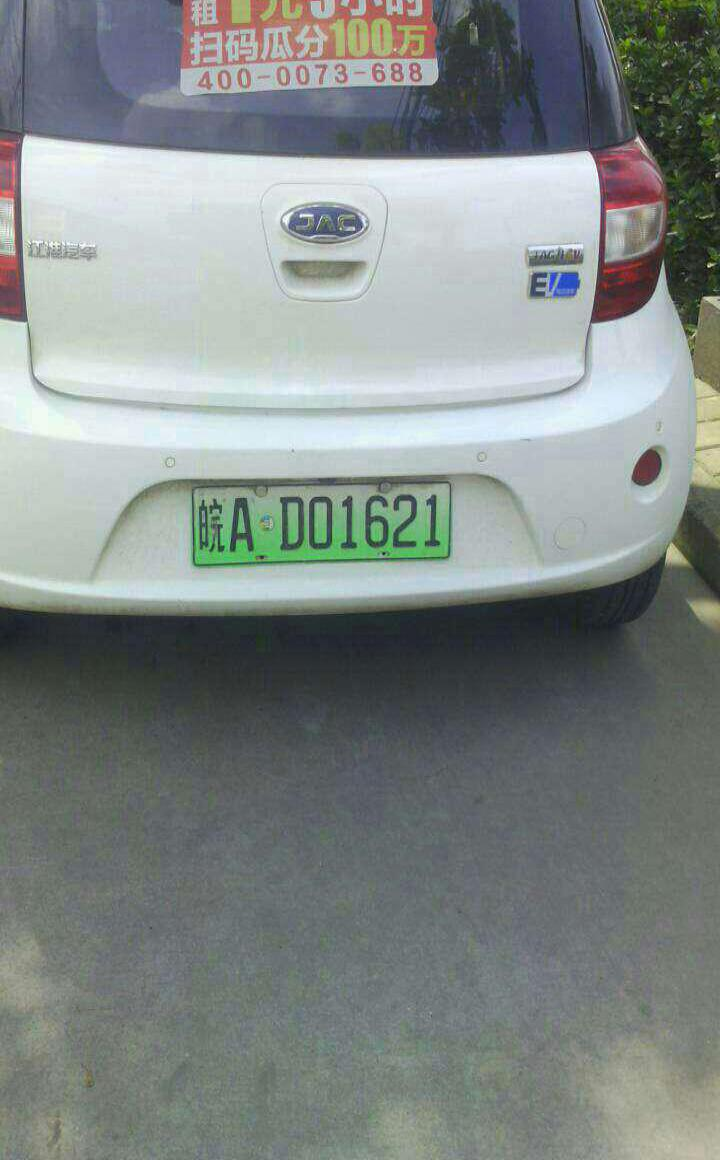car_id: (194, 482, 451, 561)
